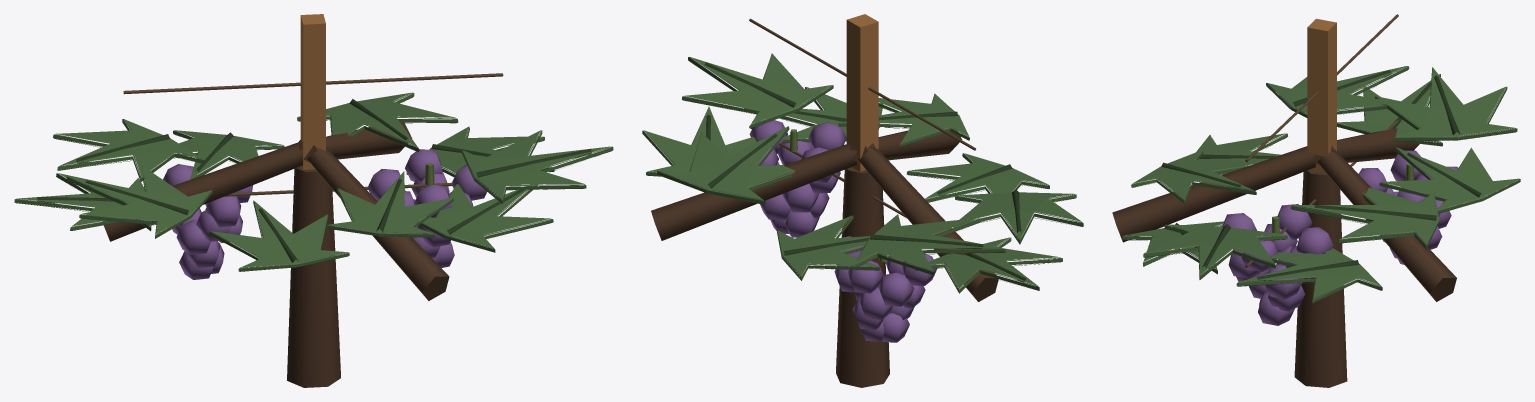
Rendered from grape.m1.glb.
3 views of the same model, side by side, from view 1: azimuth 30°, elevation 25°; view 2: azimuth 150°, elevation 25°; view 3: azimuth 270°, elevation 25° (orthographic).
Visible parts, largest first — view 1: cropLeafInstances, cropStemInstances, cropFruitInstances, cropSupportInstances; view 2: cropLeafInstances, cropStemInstances, cropFruitInstances, cropSupportInstances; view 3: cropLeafInstances, cropStemInstances, cropFruitInstances, cropSupportInstances.
Boxes of the visible parts, x1=… form: cropLeafInstances: x1=14, y1=92, x2=613, y2=271; cropStemInstances: x1=102, y1=122, x2=449, y2=387; cropFruitInstances: x1=163, y1=149, x2=487, y2=279; cropSupportInstances: x1=123, y1=14, x2=503, y2=196; cropLeafInstances: x1=642, y1=53, x2=1083, y2=293; cropStemInstances: x1=651, y1=128, x2=998, y2=387; cropFruitInstances: x1=749, y1=120, x2=937, y2=342; cropSupportInstances: x1=749, y1=14, x2=975, y2=256; cropLeafInstances: x1=1122, y1=66, x2=1520, y2=303; cropStemInstances: x1=1112, y1=128, x2=1456, y2=387; cropFruitInstances: x1=1222, y1=150, x2=1458, y2=325; cropSupportInstances: x1=1245, y1=14, x2=1398, y2=267.
Size of what is drawn, in the model's own units: 2.16 by 1.55 by 1.63.
